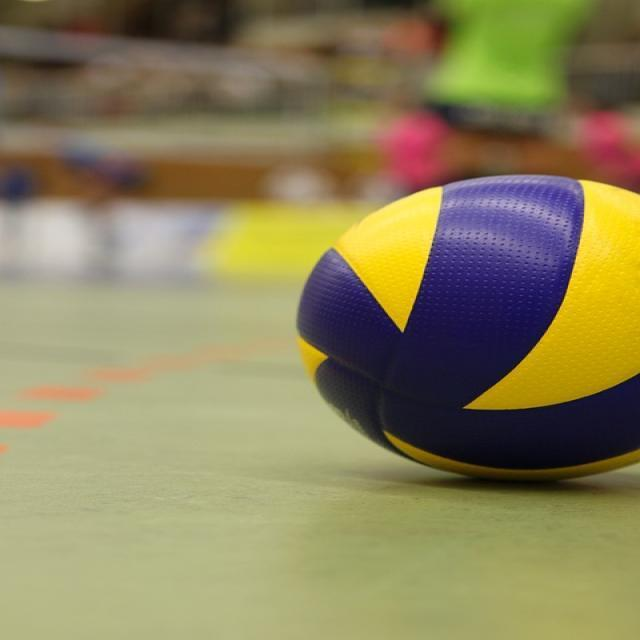volleyball: (296, 175, 639, 480)
